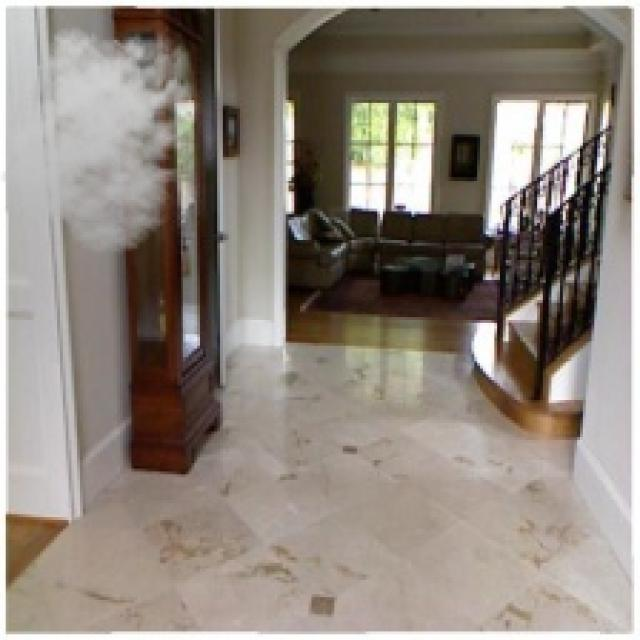Smoke: (0, 20, 206, 254)
